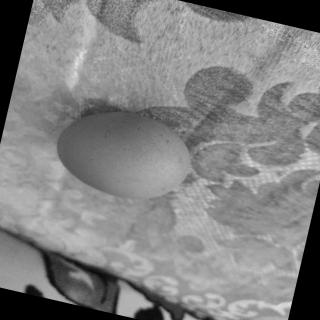Telur: (49, 99, 201, 213)
